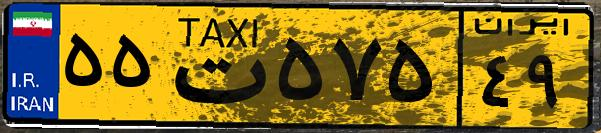4: (475, 38, 525, 113)
5: (270, 28, 330, 110), (385, 28, 445, 110), (57, 26, 110, 100), (110, 28, 158, 98)
7: (330, 28, 385, 110)
9: (525, 38, 570, 115)
ت: (158, 12, 270, 120)
